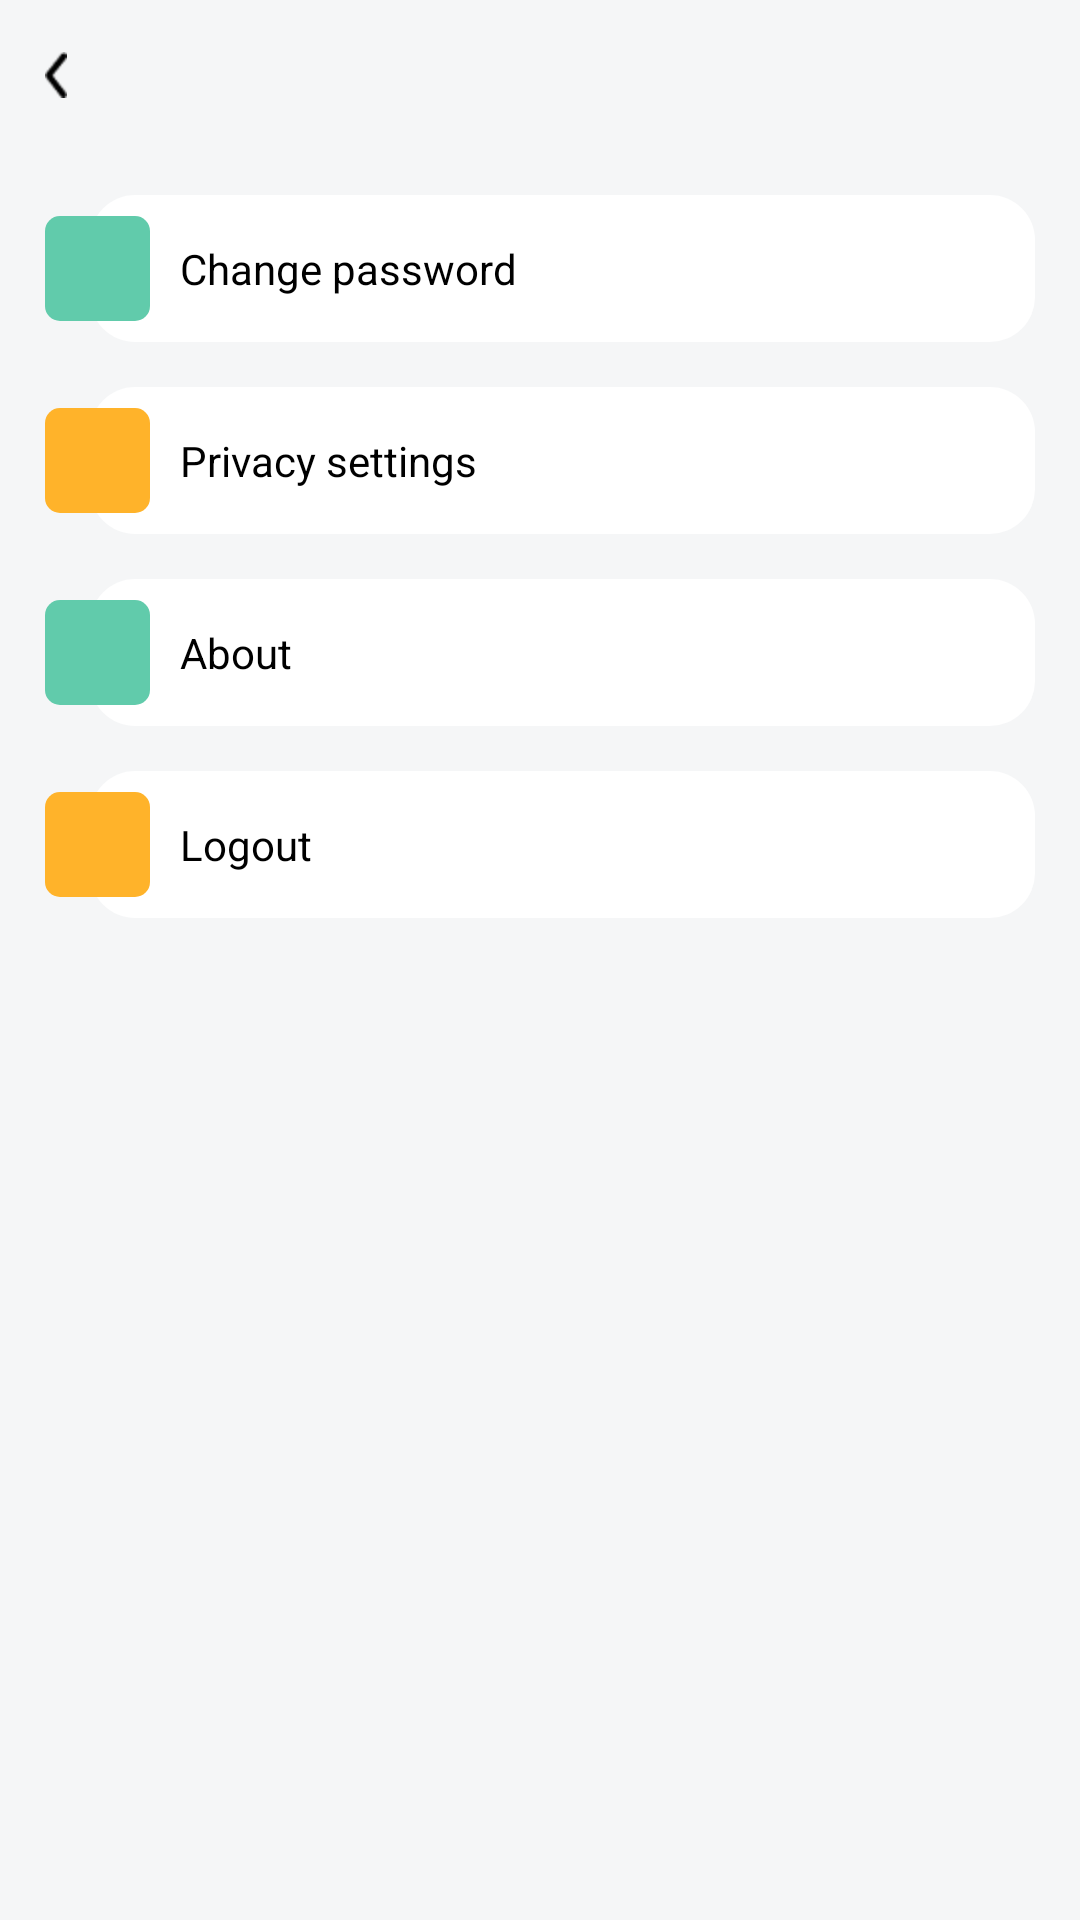

Icons on this 1080 × 1920 Android screen, each with its box as (x1, y1, x2, y2):
left: (45, 52, 67, 98)
